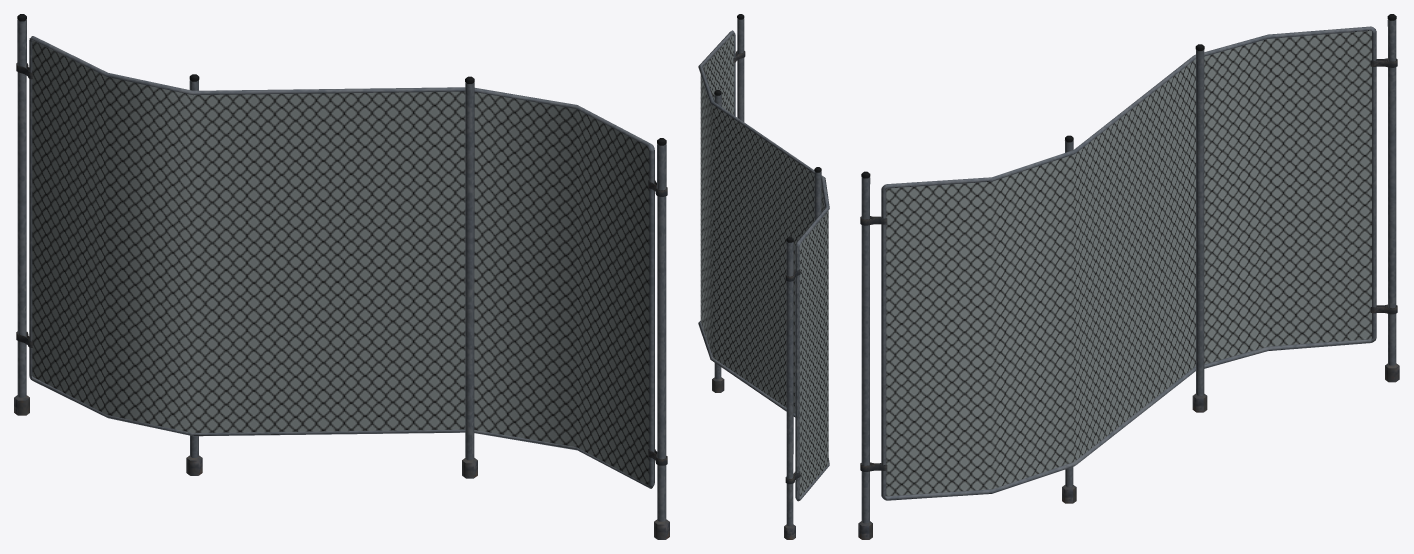
File: Fence_B_G.fbx
3 views of the same model, side by side, from view 1: azimuth 30°, elevation 25°; view 2: azimuth 150°, elevation 25°; view 3: azimuth 270°, elevation 25° (orthographic). The views are drawn at different scales.
Visible parts, largest first — view 1: Fence_B_G; view 2: Fence_B_G; view 3: Fence_B_G.
Part boxes in pixels (bbox=[...]): Fence_B_G: bbox=[14, 14, 669, 539]; Fence_B_G: bbox=[698, 14, 829, 539]; Fence_B_G: bbox=[858, 14, 1399, 539].
Size of the model in its own units: 207 by 216 by 290.
